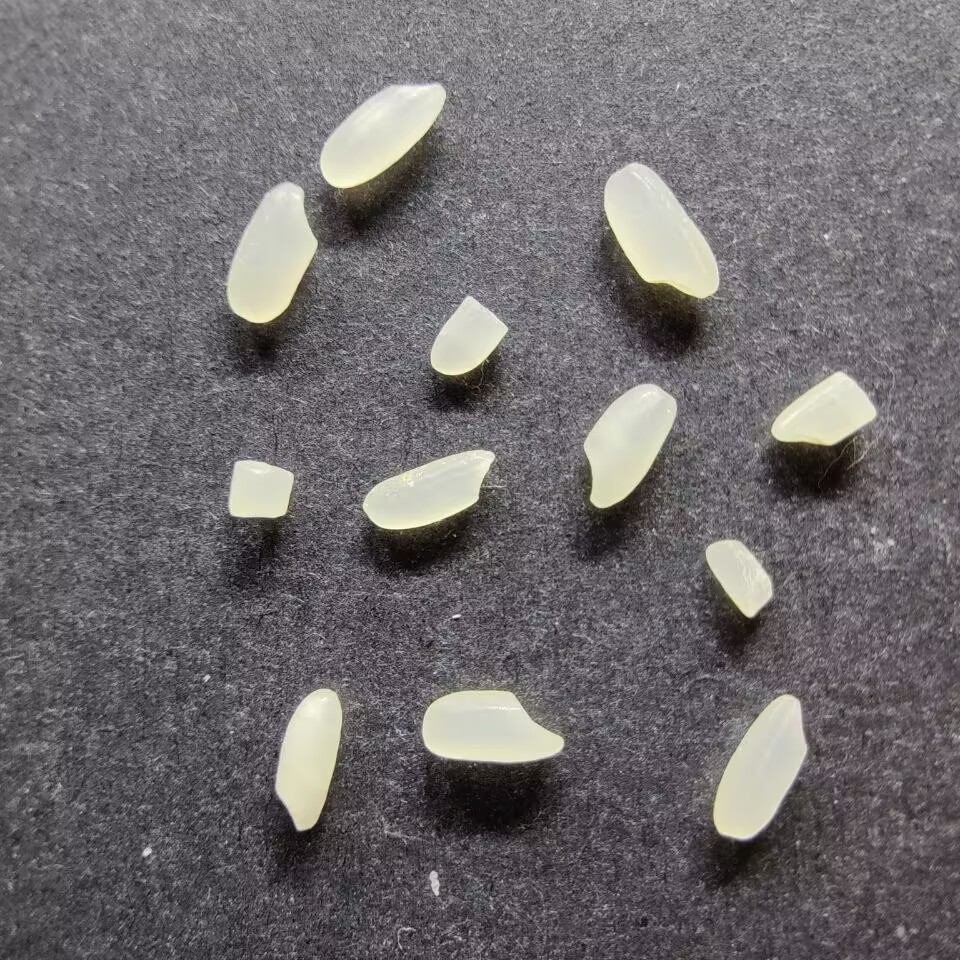broken: (769, 371, 878, 445), (429, 295, 508, 376), (704, 539, 772, 619), (228, 460, 293, 519)
rice: (602, 161, 720, 298), (712, 694, 807, 840), (318, 81, 446, 189), (226, 181, 318, 323), (582, 382, 677, 509), (361, 447, 495, 530), (421, 689, 564, 764), (274, 687, 342, 832)
